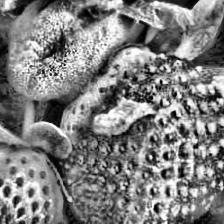Gray Mold: (0, 0, 135, 104), (60, 46, 194, 148)
